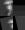potion: (0, 0, 13, 16), (1, 16, 13, 30)
zombie: (13, 0, 25, 16)
